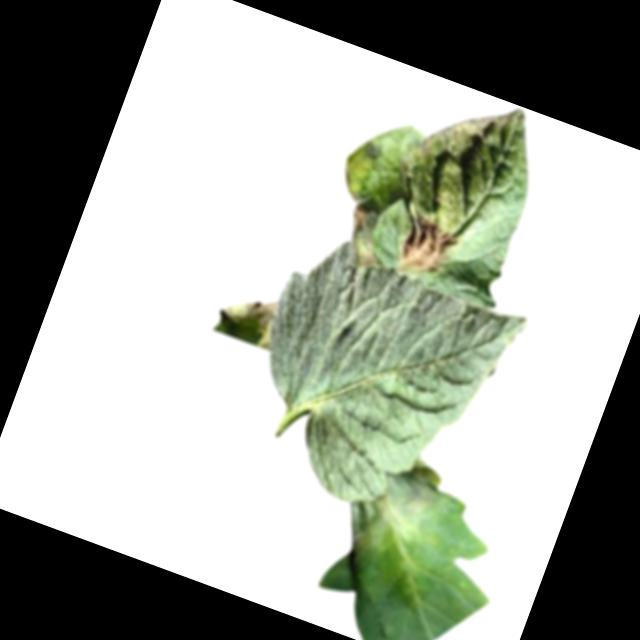Late_blight: (333, 440, 451, 579), (387, 210, 465, 284), (212, 285, 281, 352), (338, 185, 383, 236)
healthy: (223, 226, 532, 535)
